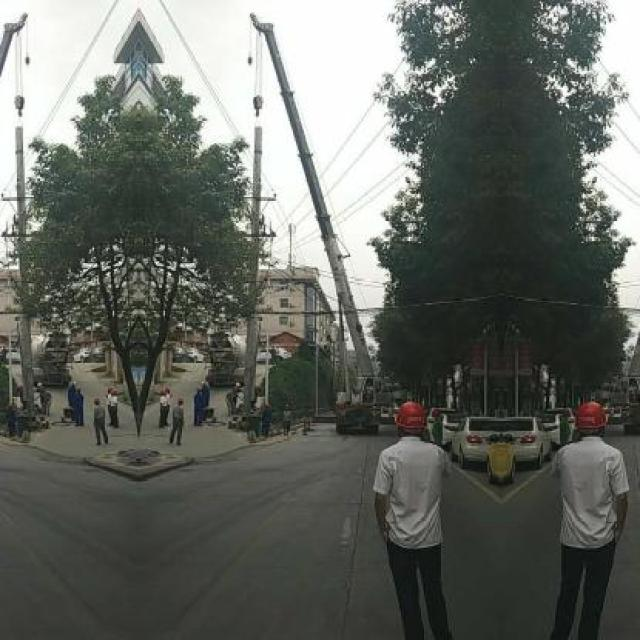helmet: (391, 397, 428, 434), (574, 397, 610, 434)
